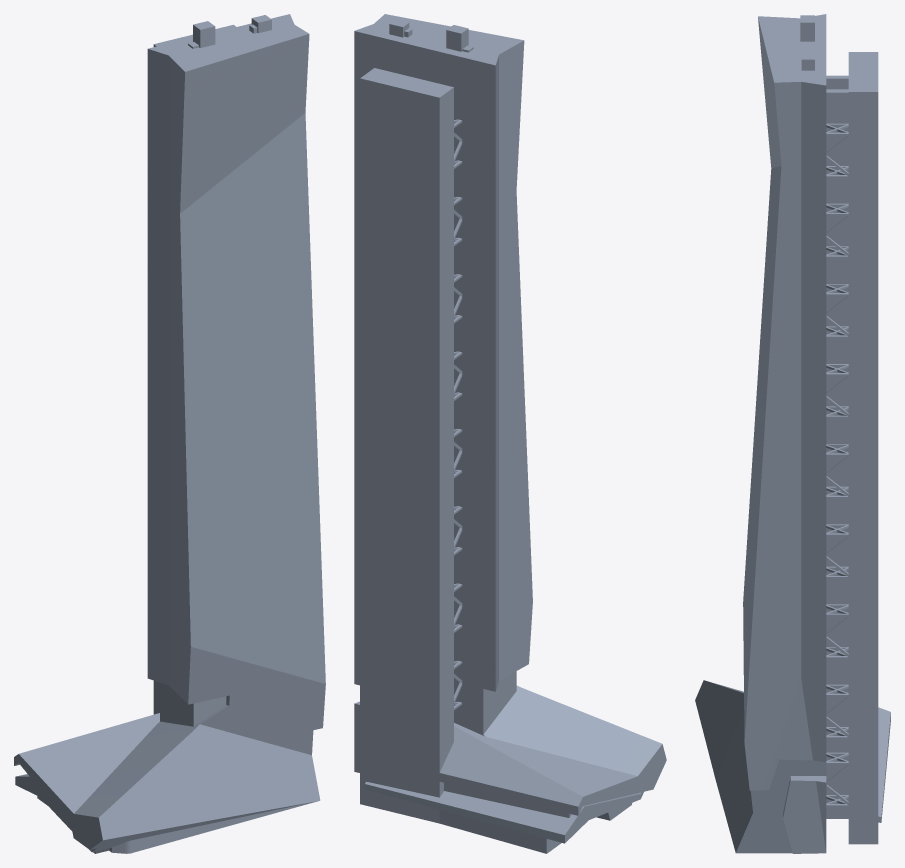
The model's file is hanking_center_7d0712d1.glb.
The picture shows the model from 3 angles, left to right: view 1: azimuth 30°, elevation 25°; view 2: azimuth 150°, elevation 25°; view 3: azimuth 270°, elevation 25°; orthographic projection. The views are drawn at different scales.
Visible parts, largest first — view 1: hanking_center_7d0712d1; view 2: hanking_center_7d0712d1; view 3: hanking_center_7d0712d1.
Part boxes in pixels (box(x1,y1,x2,y2)): hanking_center_7d0712d1: box(14, 14, 325, 853); hanking_center_7d0712d1: box(354, 14, 666, 853); hanking_center_7d0712d1: box(695, 14, 890, 853).
Size of the model in its own units: 122 by 359 by 80.36.
Materials: 1 (1 with a texture image).
